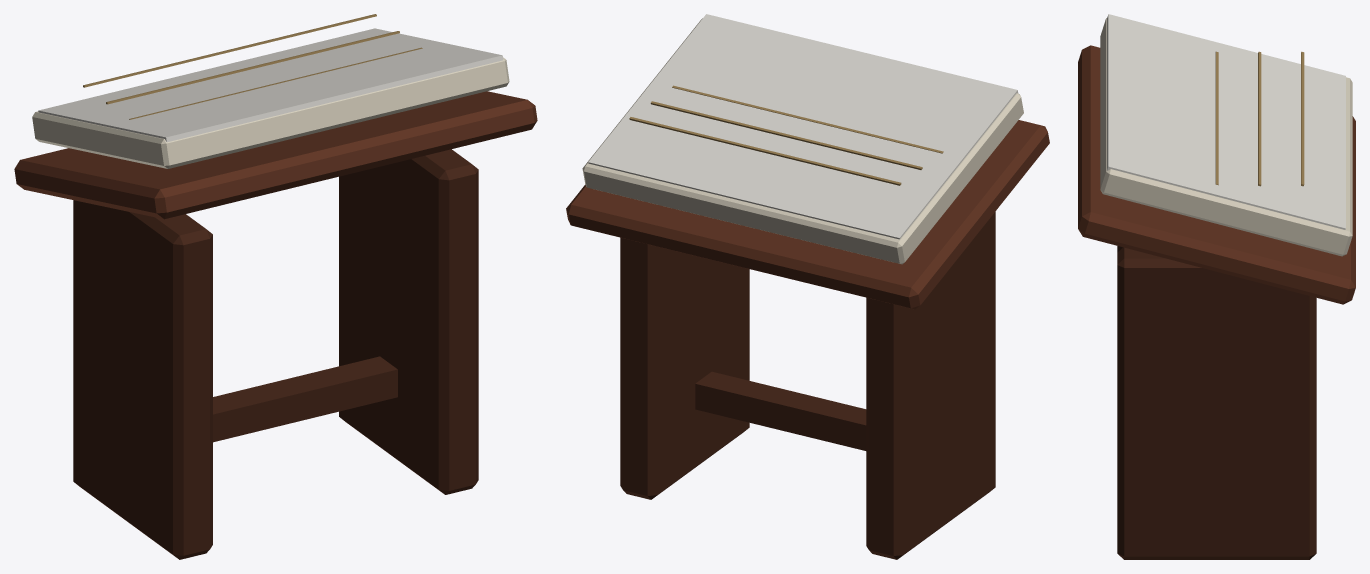
Rendered from ledger.glb.
3 views of the same model, side by side, from view 1: azimuth 30°, elevation 25°; view 2: azimuth 150°, elevation 25°; view 3: azimuth 270°, elevation 25° (orthographic). The views are drawn at different scales.
Parts seen in each view (by area): view 1: Body_mesh, Lectern_mesh, Leaf_mesh, Pages_mesh; view 2: Body_mesh, Leaf_mesh, Lectern_mesh, Pages_mesh; view 3: Body_mesh, Leaf_mesh, Lectern_mesh, Pages_mesh.
Part boxes in pixels (box(x1,y1,x2,y2)): Body_mesh: box(73, 149, 478, 559); Lectern_mesh: box(14, 91, 537, 219); Leaf_mesh: box(38, 28, 503, 142); Pages_mesh: box(32, 14, 509, 168); Body_mesh: box(620, 211, 995, 559); Leaf_mesh: box(588, 14, 1018, 239); Lectern_mesh: box(566, 120, 1049, 309); Pages_mesh: box(582, 18, 1023, 264); Body_mesh: box(1117, 246, 1316, 559); Leaf_mesh: box(1107, 14, 1345, 229); Lectern_mesh: box(1078, 45, 1355, 304); Pages_mesh: box(1100, 18, 1352, 256).
Size of the model in its own units: 0.86 by 0.9367 by 0.5849.
